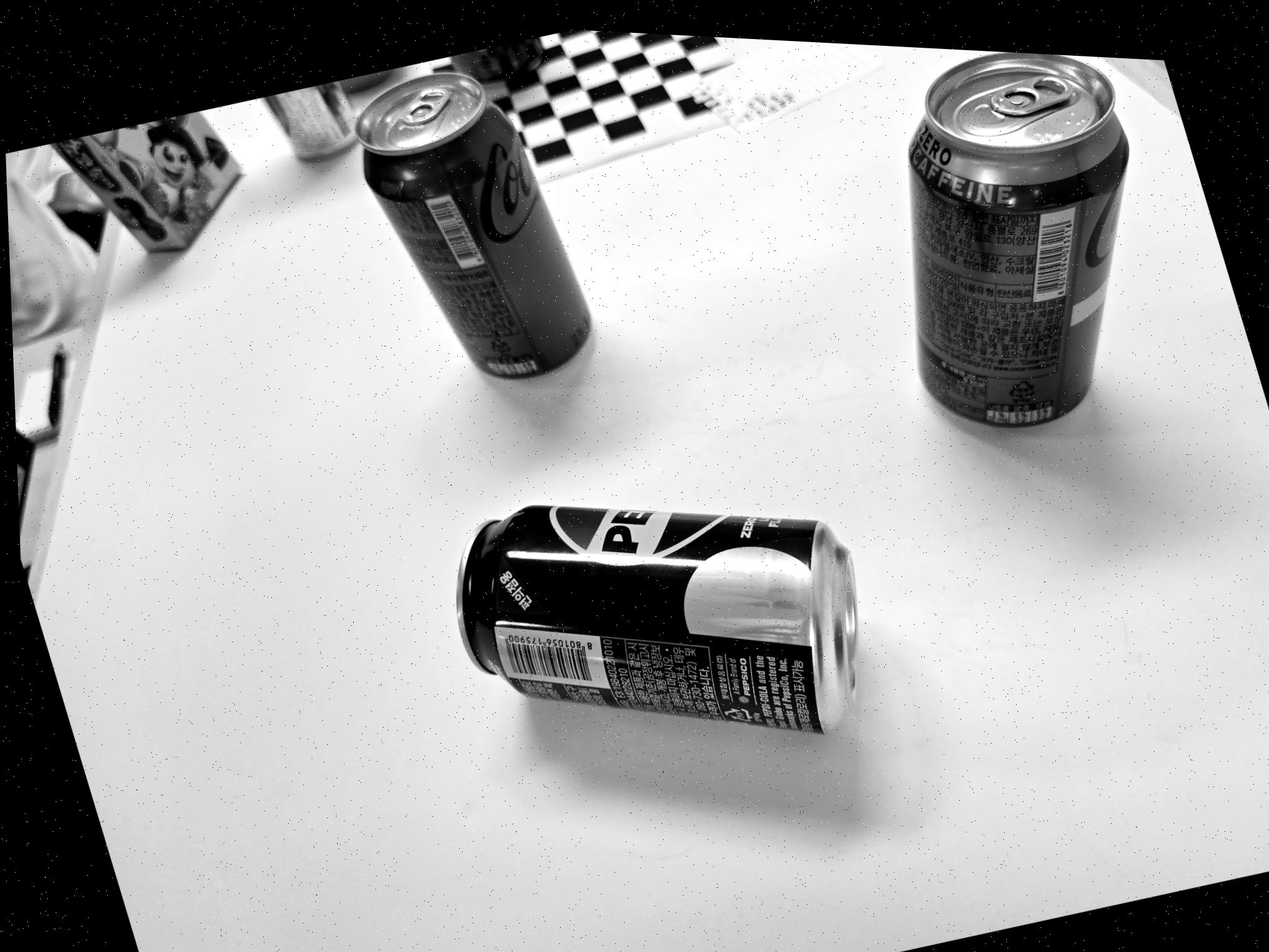can_coke_decaf: (907, 51, 1134, 439)
can_coke_zero: (355, 76, 593, 385)
can_pepsi_zero: (451, 505, 858, 736)
